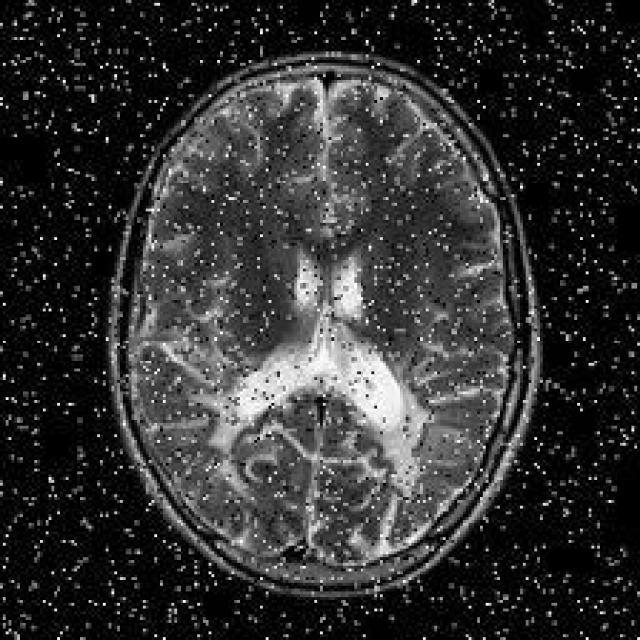no_tumor: (110, 50, 536, 607)
